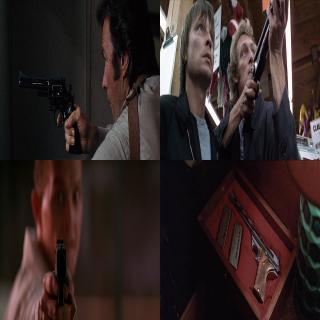gun: (226, 184, 280, 311), (18, 65, 82, 157), (236, 4, 292, 104), (51, 233, 67, 309)
